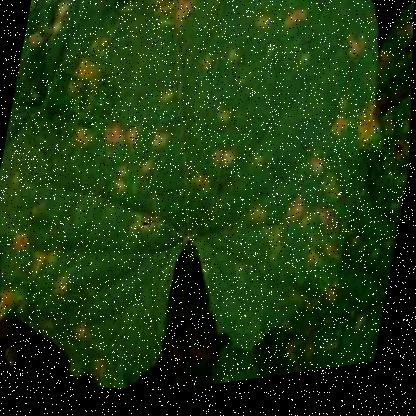Anthracnose: (0, 18, 222, 372), (155, 39, 378, 327), (139, 0, 394, 151)
